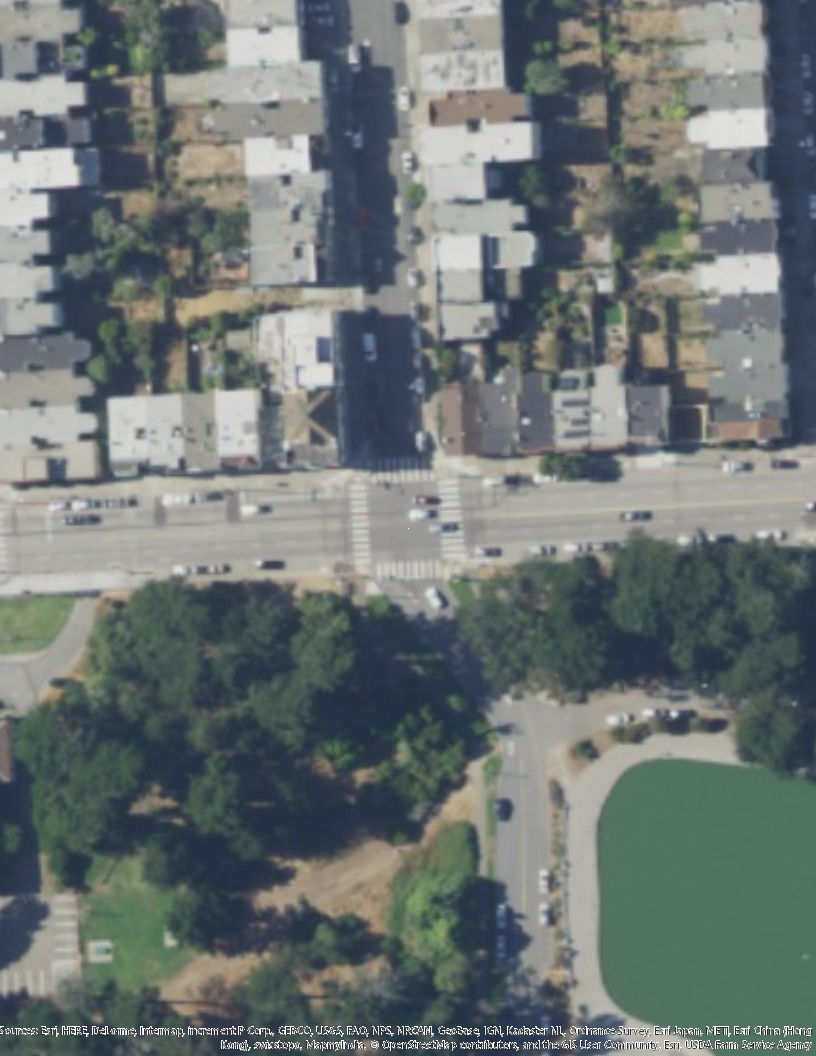zebracross: (436, 481, 468, 556), (348, 486, 375, 568), (382, 554, 447, 580), (371, 457, 434, 482)
